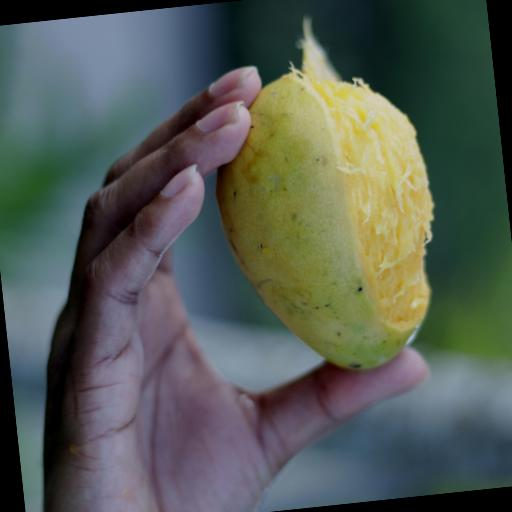Mango-Detection: (102, 1, 501, 477)
